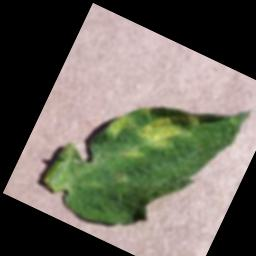Leaf_Mold: (133, 94, 202, 160), (101, 107, 138, 145)
